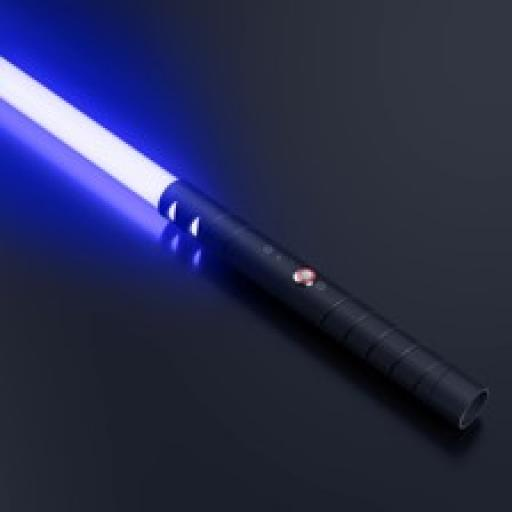lightsaber: (0, 44, 494, 432)
